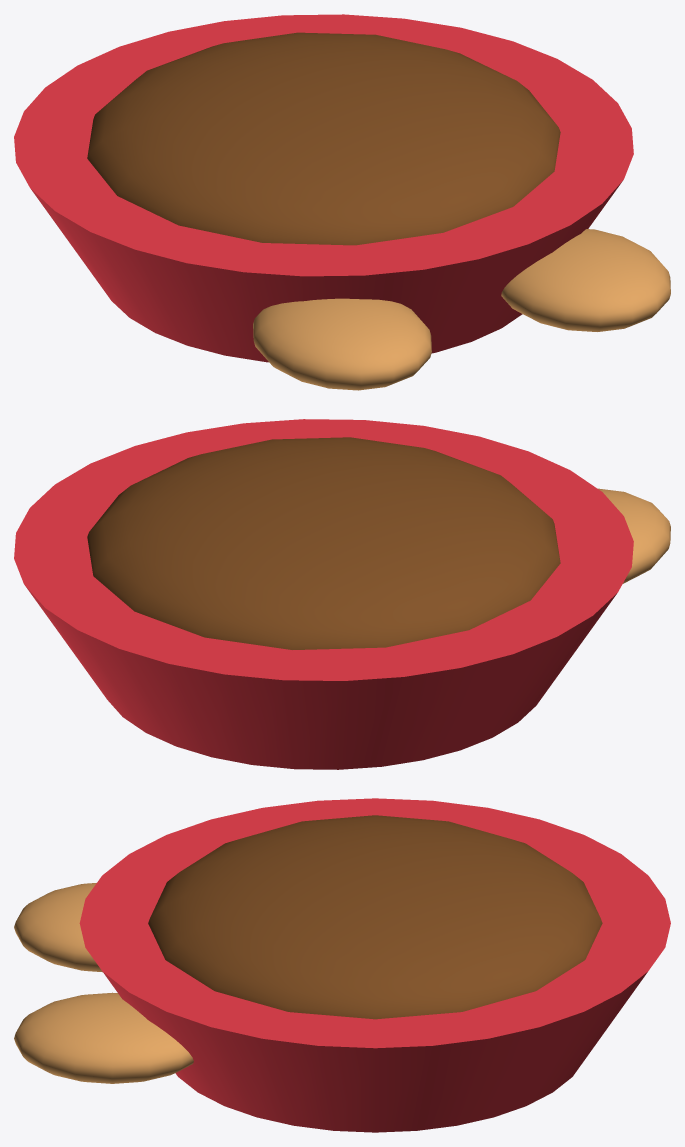
File: dog_tippytaps.glb
3 renders of one model, top to bottom at view 1: azimuth 30°, elevation 25°; view 2: azimuth 150°, elevation 25°; view 3: azimuth 270°, elevation 25°, orthographic. The views are drawn at different scales.
Parts seen in each view (by area): view 1: model_dog_tippytaps; view 2: model_dog_tippytaps; view 3: model_dog_tippytaps.
Part boxes in pixels (x1,y1,x2,y2): model_dog_tippytaps: (14,14,670,390); model_dog_tippytaps: (14,419,670,769); model_dog_tippytaps: (14,798,670,1132).
Size of the model in its own units: 3.6 by 1.17 by 4.
